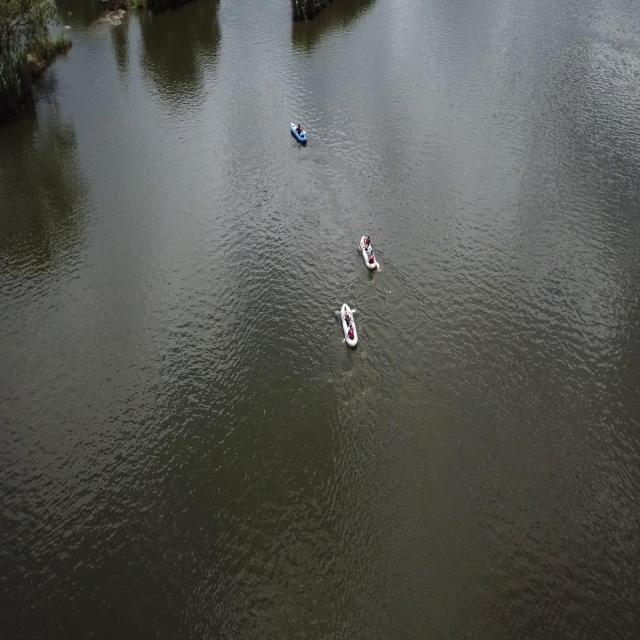kayak: (337, 297, 362, 356), (356, 233, 382, 278), (290, 120, 309, 152)
